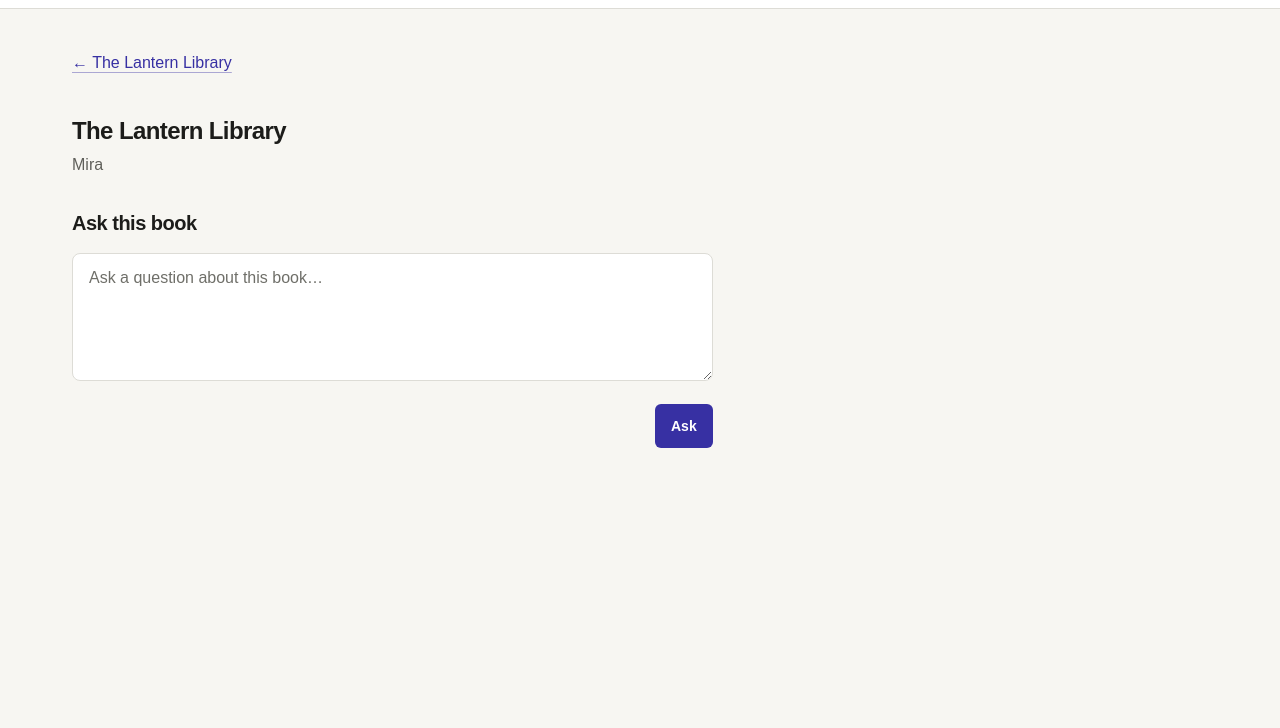
Test: renders plain answers with separately numbered expandable sources and exact provenance
This screenshot has width=1280, height=728.
Expected: the heading "The Lantern Library" is shown, [72,117,286,144]
Type "What color is the lantern?" into the text box labelled "Ask this book" at (392, 317), box [72,253,713,381]
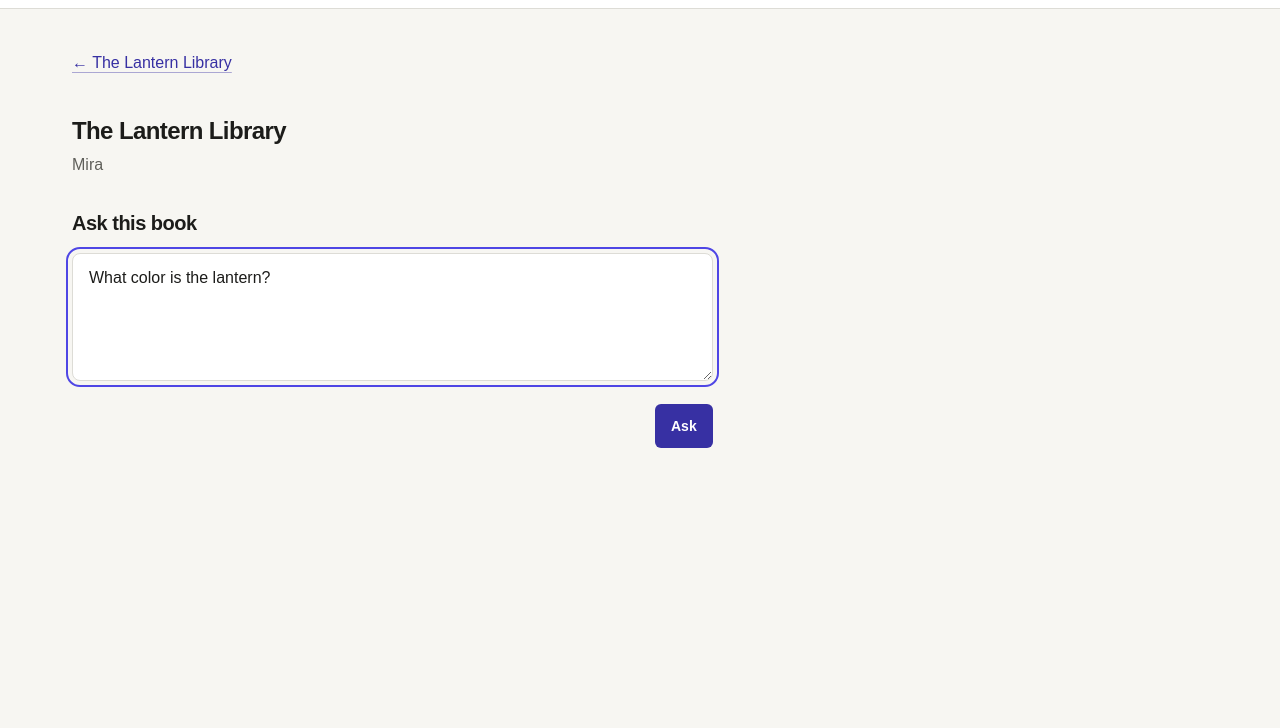
Click the button "Ask" at (684, 426), box [655,404,713,448]
(page scrolled)
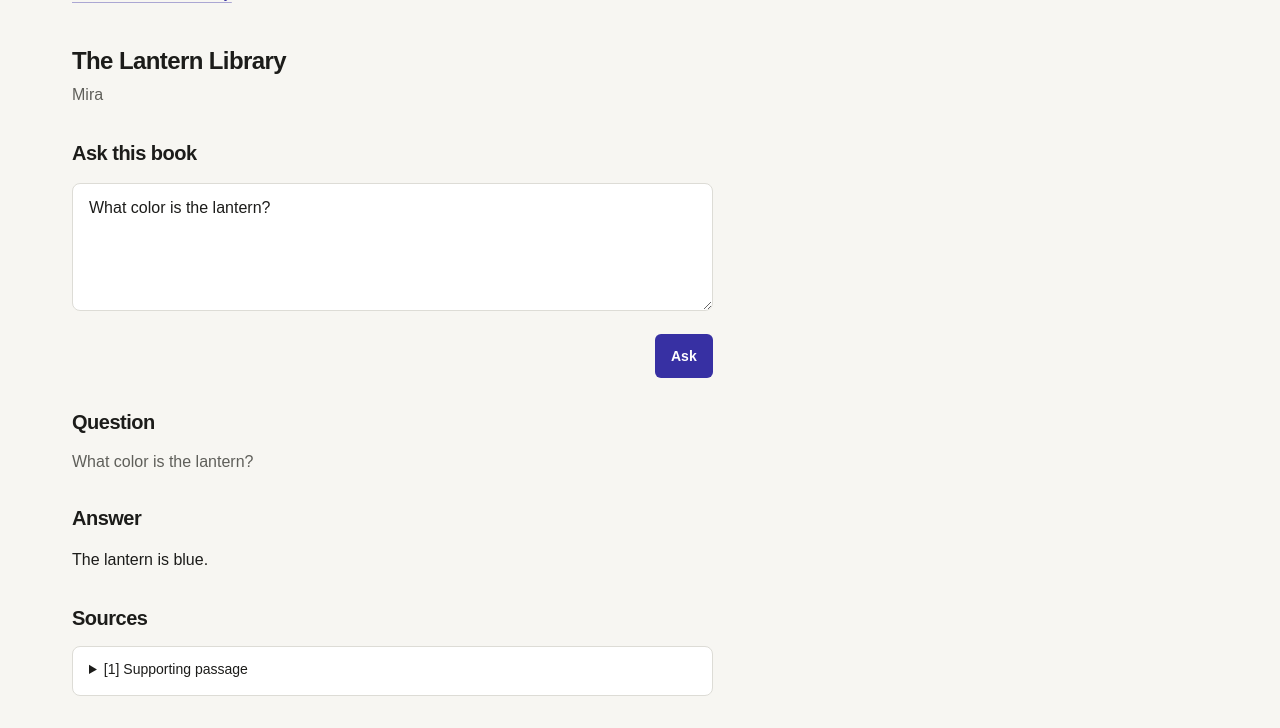
Expected: the text "The lantern is blue." does not show "[1]"
Expected: the text "The lantern is blue." is shown, [72,551,208,568]
Click the heading "[1] Supporting passage" at (176, 669), box [104,661,248,677]
(page scrolled)
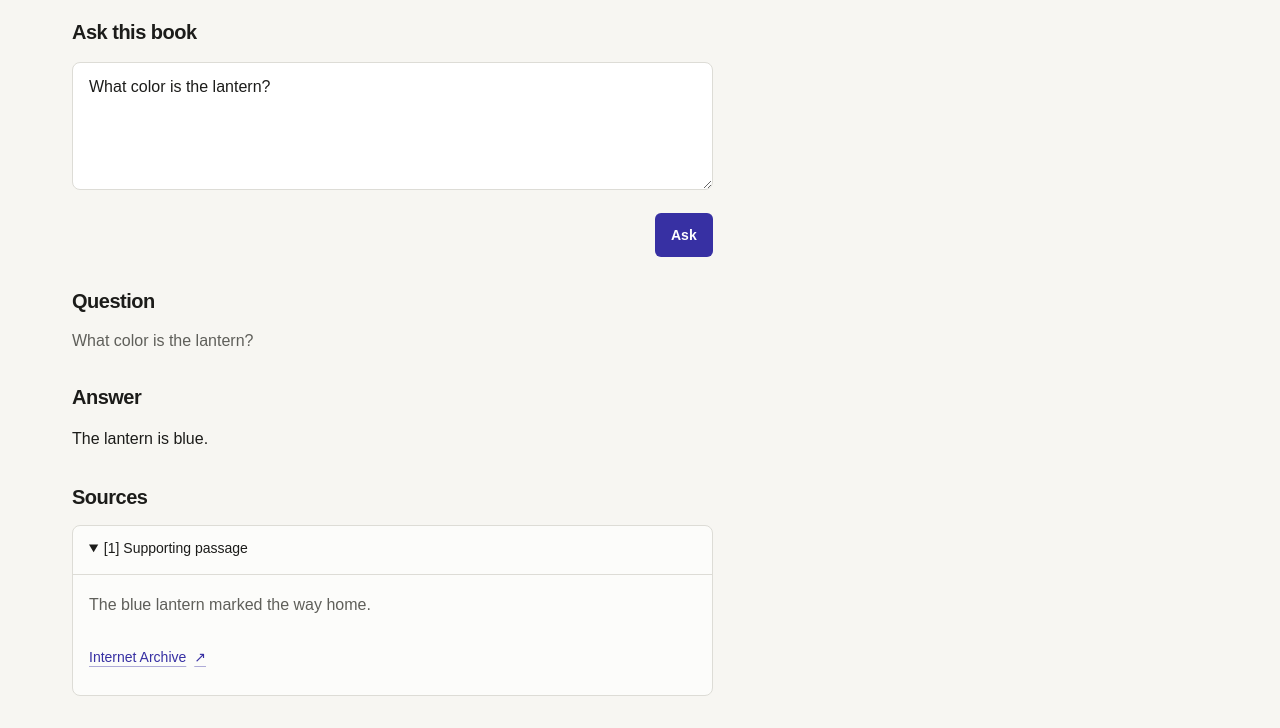
Expected: the text "The blue lantern marked the way home." is shown, [89,596,371,613]
